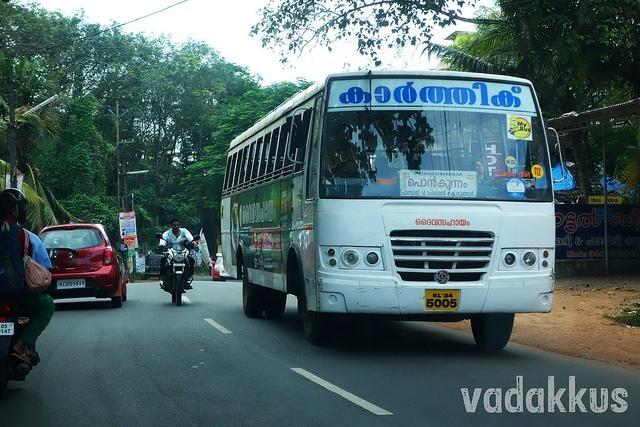bus: (223, 71, 570, 350)
car: (40, 227, 131, 312), (210, 256, 234, 282)
motorcycle: (154, 232, 206, 302), (0, 300, 29, 386)
